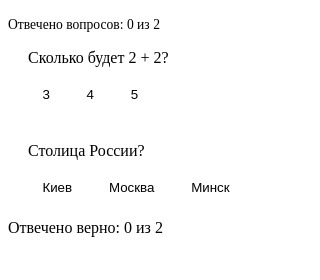
it: progress label tracks answered questions regardless of correctness
Expected: the text "Отвечено вопросов: 0 из 2" is shown, [8, 17, 160, 32]
What coordinates should you click on to do the following:
click the button "3"
I would click on:
 (46, 94)
Its box is [28, 79, 64, 110].
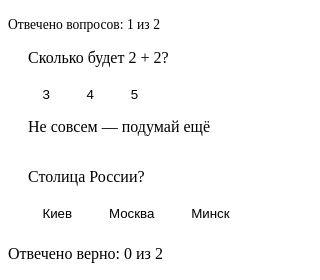
Result: the text "Отвечено вопросов: 1 из 2" is shown at [8, 17, 160, 32]
